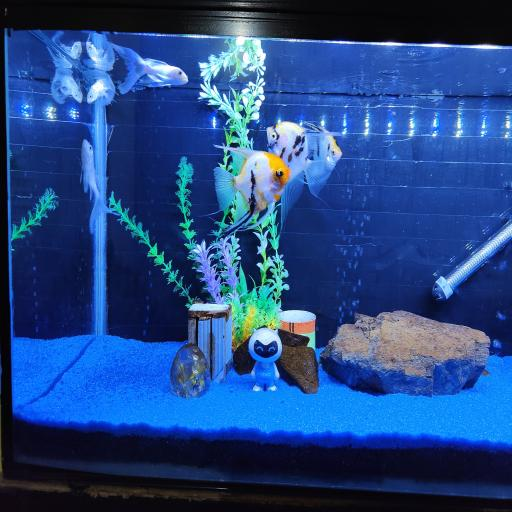Fish: (267, 122, 340, 231), (214, 146, 291, 233), (113, 44, 188, 94), (81, 140, 112, 233), (303, 122, 342, 172), (51, 68, 82, 104), (85, 35, 115, 71), (87, 71, 115, 105), (52, 31, 81, 59)
